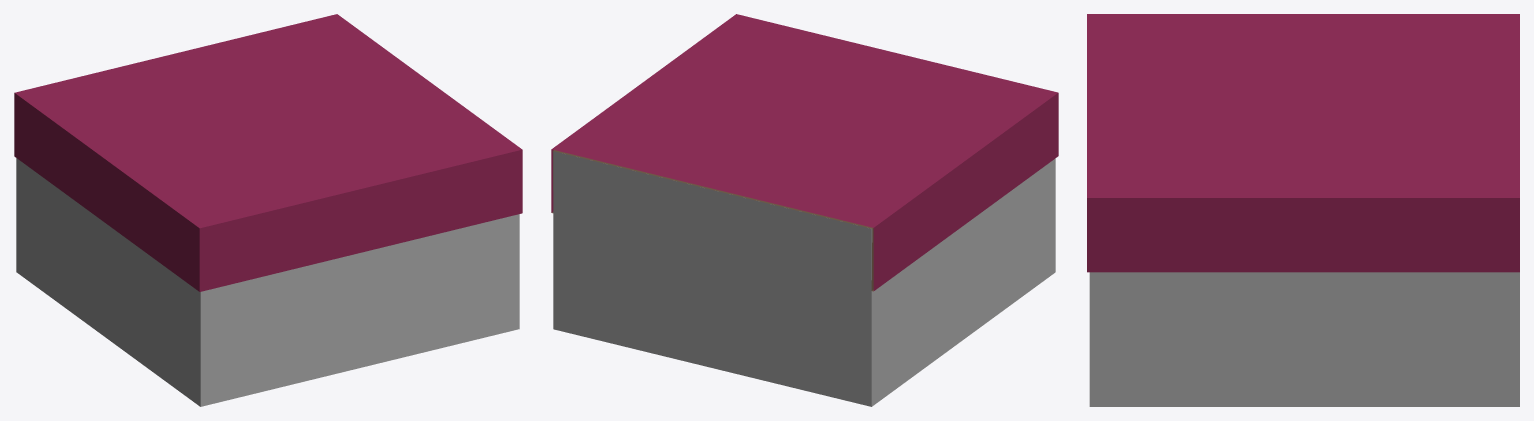
The model's file is Cake.FBX.
The picture shows the model from 3 angles, left to right: view 1: azimuth 30°, elevation 25°; view 2: azimuth 150°, elevation 25°; view 3: azimuth 270°, elevation 25°; orthographic projection. The views are drawn at different scales.
Visible parts, largest first — view 1: cacke box top, cake box; view 2: cake box, cacke box top; view 3: cacke box top, cake box.
Part boxes in pixels (<box>): cacke box top: <box>14,14,522,291</box>; cake box: <box>16,158,519,406</box>; cake box: <box>553,151,1055,406</box>; cacke box top: <box>551,14,1058,291</box>; cacke box top: <box>1087,14,1519,272</box>; cake box: <box>1089,272,1519,406</box>.
Size of the model in its own units: 0.2393 by 0.1274 by 0.2379.
